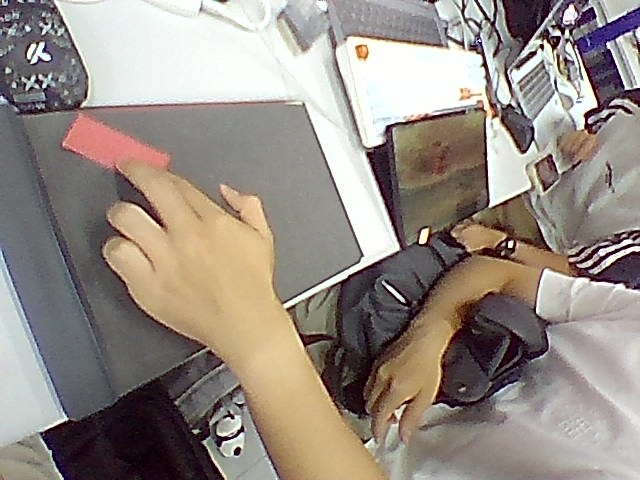card: (63, 113, 169, 168)
